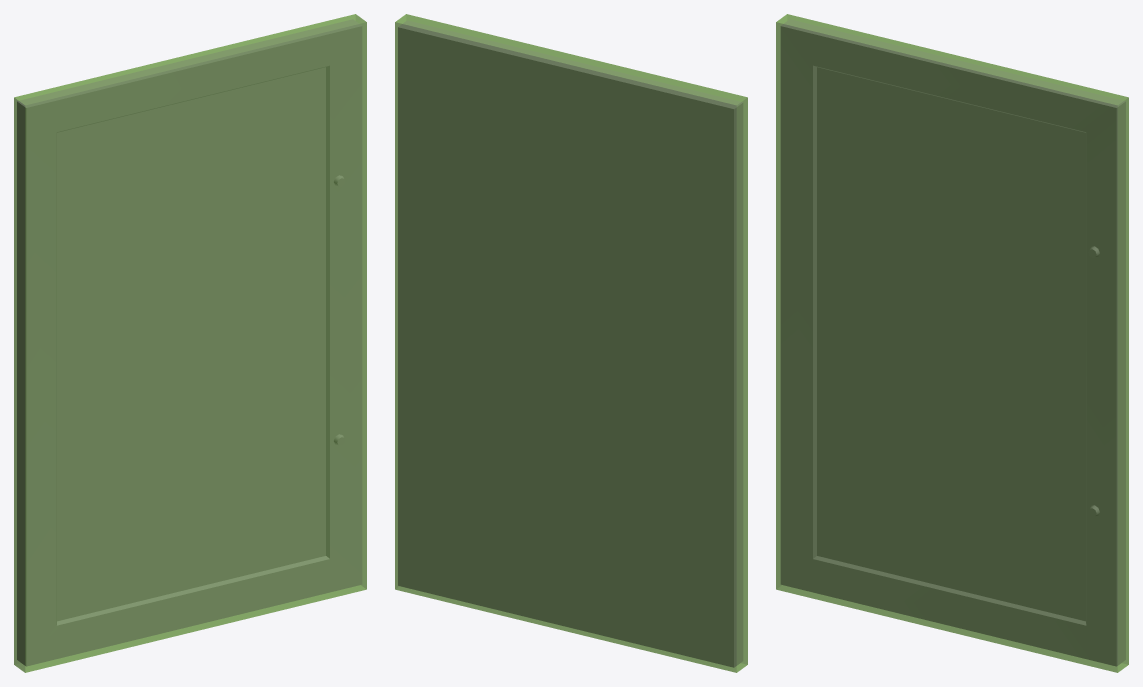
File: p_PosterFrame_01_a.fbx
The picture shows the model from 3 angles, left to right: view 1: azimuth 30°, elevation 25°; view 2: azimuth 150°, elevation 25°; view 3: azimuth 330°, elevation 25°; orthographic projection.
Parts seen in each view (by area): view 1: p_PosterFrame_01_a_col, p_PosterFrame_01_a_LOD0; view 2: p_PosterFrame_01_a_col, p_PosterFrame_01_a_LOD0; view 3: p_PosterFrame_01_a_col, p_PosterFrame_01_a_LOD0.
Boxes of the visible parts, bbox=[...] form: p_PosterFrame_01_a_col: bbox=[14, 14, 366, 672]; p_PosterFrame_01_a_LOD0: bbox=[17, 19, 362, 666]; p_PosterFrame_01_a_col: bbox=[395, 14, 747, 672]; p_PosterFrame_01_a_LOD0: bbox=[398, 20, 743, 667]; p_PosterFrame_01_a_col: bbox=[776, 14, 1128, 672]; p_PosterFrame_01_a_LOD0: bbox=[780, 19, 1125, 666].
Size of what is drawn, in the model's own units: 59.2 by 93.96 by 3.34.
